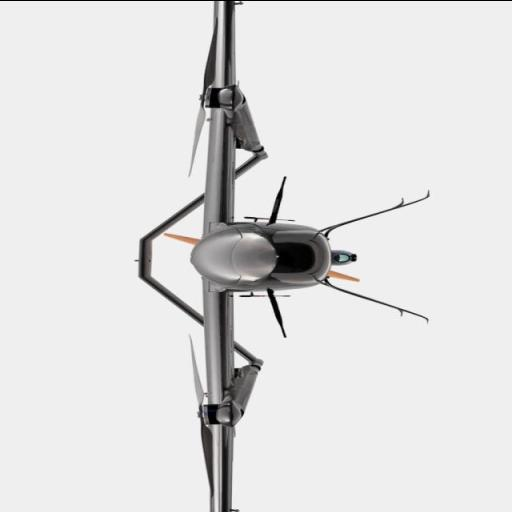uav: (121, 0, 437, 511)
